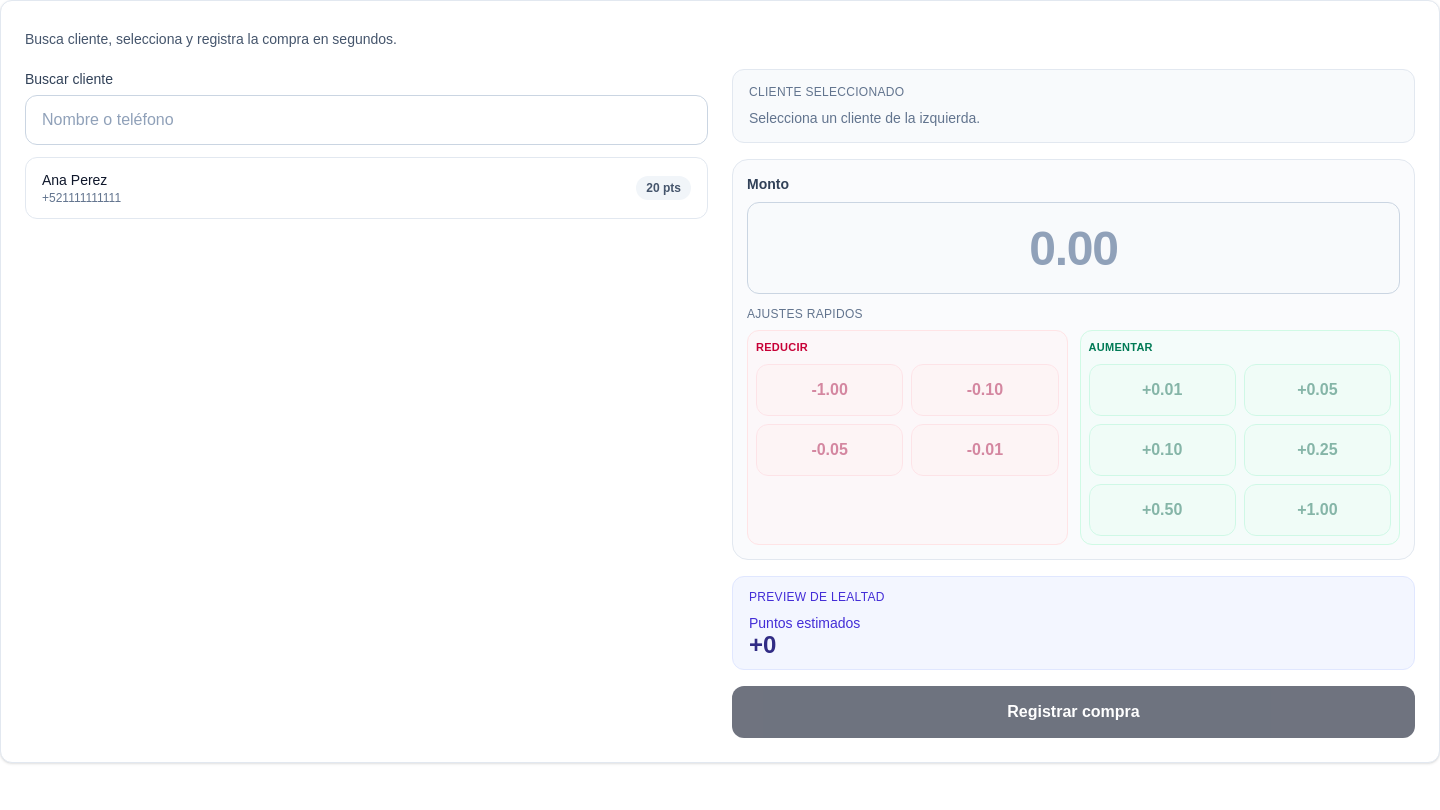
PosPurchaseForm › customer selection › enables the amount input after selecting a customer
Click the button "Ana Perez +521111111111 20 pts": (75, 180) [25,157,708,219]
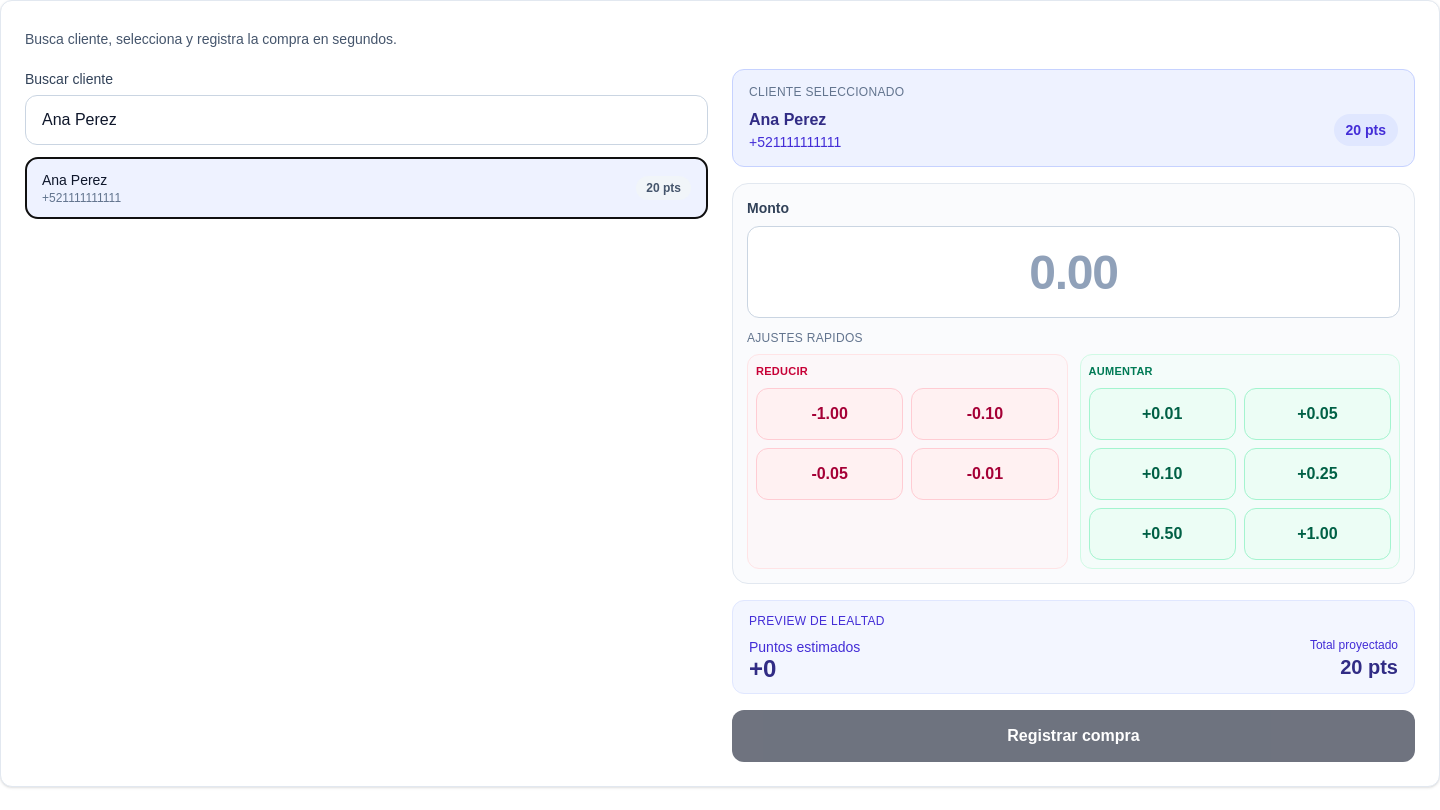
Now the field labelled "Monto" is enabled, box [747,226,1400,318]
